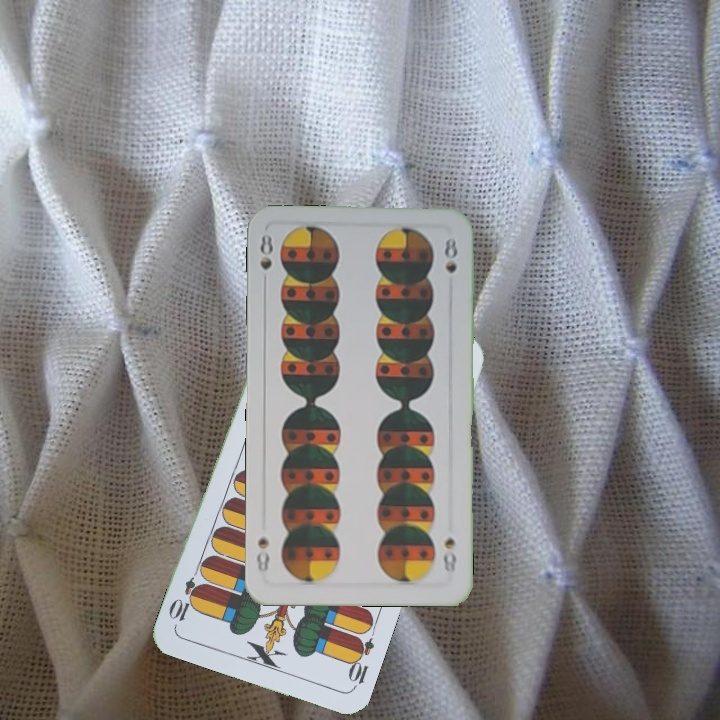E10: (344, 633, 377, 692)
S8: (255, 231, 275, 289), (439, 533, 459, 576)
